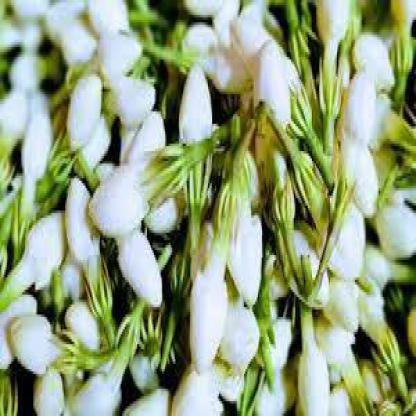Melati: (8, 6, 410, 402)
